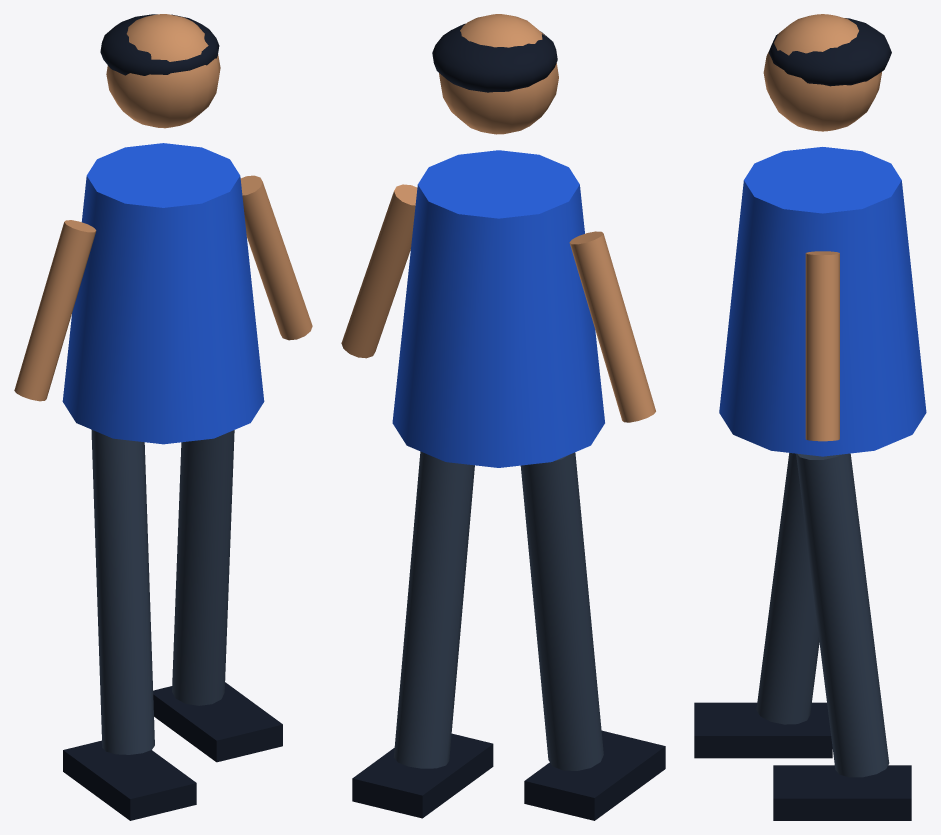
3 views of the same model, side by side, from view 1: azimuth 30°, elevation 25°; view 2: azimuth 150°, elevation 25°; view 3: azimuth 270°, elevation 25° (orthographic). The views are drawn at different scales.
Parts seen in each view (by area): view 1: person-standing-adult; view 2: person-standing-adult; view 3: person-standing-adult.
Boxes of the visible parts, x1=… form: person-standing-adult: x1=14, y1=14, x2=312, y2=820; person-standing-adult: x1=341, y1=14, x2=665, y2=820; person-standing-adult: x1=694, y1=14, x2=926, y2=820.
Bounding box in the file's own units: 0.7272 × 1.73 × 0.4838.
